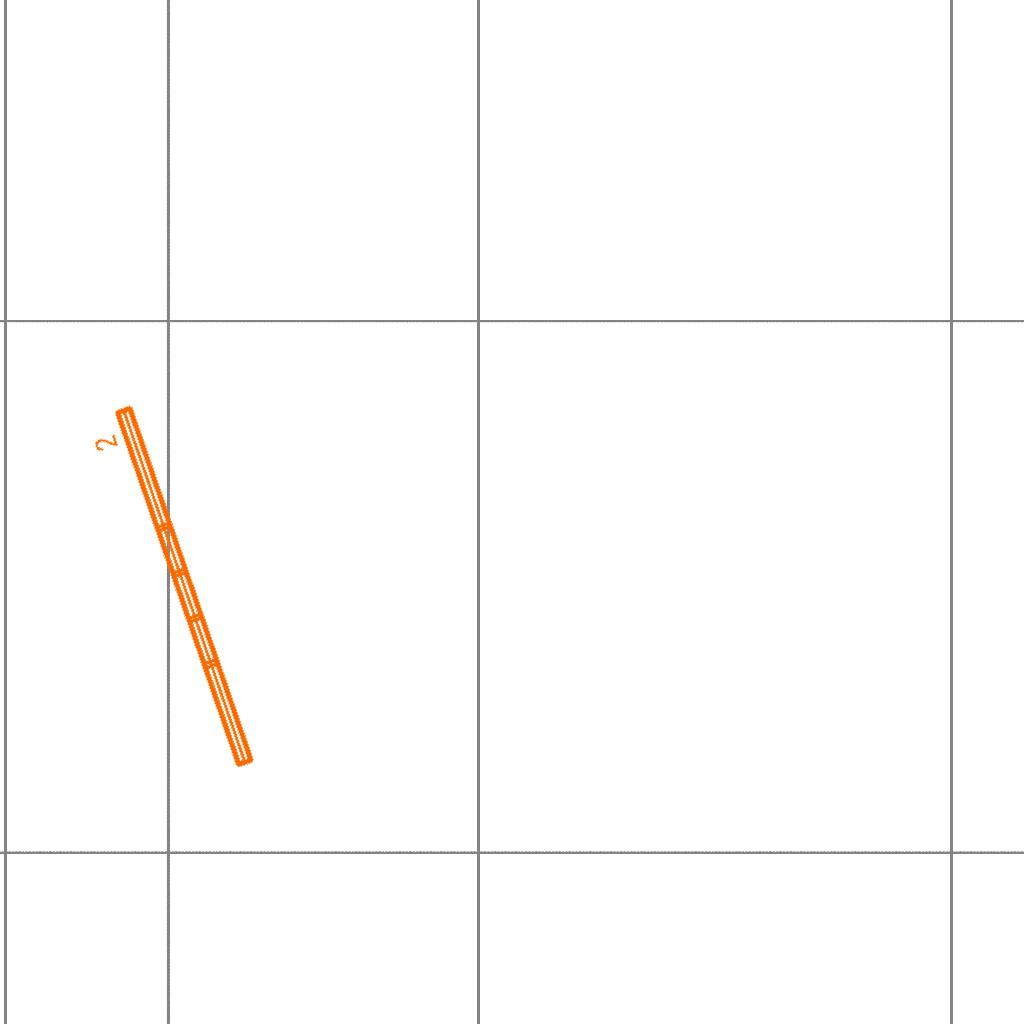Ambulanz_Pendelleuchte_LED: (83, 398, 262, 784)
